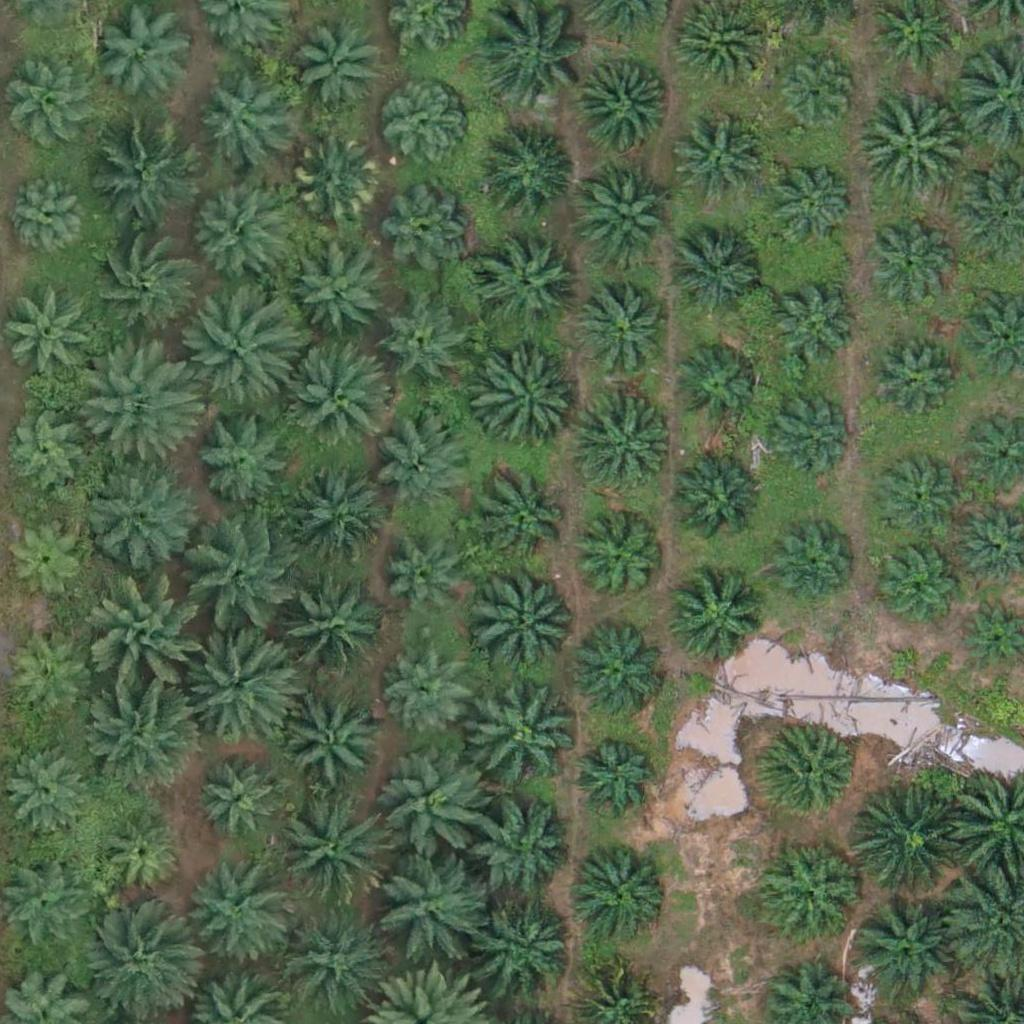Kelapa_Sawit: (371, 846, 484, 960), (272, 575, 385, 689), (273, 794, 386, 907), (277, 906, 390, 1019), (850, 788, 963, 901), (479, 2, 592, 115), (465, 677, 578, 790), (189, 521, 302, 634), (88, 679, 201, 792), (378, 752, 491, 865), (471, 562, 583, 676), (188, 298, 300, 412), (94, 583, 206, 697), (89, 122, 201, 236), (177, 862, 289, 975), (853, 90, 965, 203), (285, 344, 397, 457), (184, 626, 296, 739), (81, 457, 193, 570), (81, 342, 193, 455), (85, 229, 197, 342), (851, 897, 951, 998), (571, 839, 671, 940), (478, 898, 578, 999), (669, 221, 769, 322), (665, 453, 765, 554), (666, 569, 766, 670), (575, 397, 675, 498), (479, 125, 579, 226), (475, 237, 575, 338), (475, 353, 575, 454), (284, 691, 384, 792), (290, 242, 390, 343), (189, 403, 289, 504), (101, 3, 201, 104), (762, 840, 862, 940), (473, 805, 573, 905), (760, 725, 860, 825), (574, 59, 674, 159), (575, 164, 675, 264), (568, 625, 668, 725), (477, 469, 577, 569), (378, 413, 478, 513), (285, 469, 385, 569), (184, 185, 284, 285), (2, 173, 90, 262), (96, 812, 184, 900), (775, 49, 863, 137), (764, 156, 852, 244), (768, 284, 856, 372), (761, 386, 849, 474), (863, 334, 951, 422), (677, 117, 765, 205), (577, 519, 665, 607), (569, 732, 657, 820), (195, 79, 283, 167), (196, 757, 284, 845), (10, 63, 98, 151), (4, 636, 92, 724), (768, 521, 855, 609), (878, 538, 965, 626), (874, 453, 961, 541), (865, 217, 952, 305), (673, 339, 760, 427), (582, 283, 669, 371), (382, 86, 469, 174), (385, 185, 472, 273), (382, 302, 469, 390), (382, 546, 469, 634), (387, 651, 474, 739), (292, 138, 379, 226), (291, 23, 378, 111), (2, 411, 89, 499), (3, 745, 90, 833)
